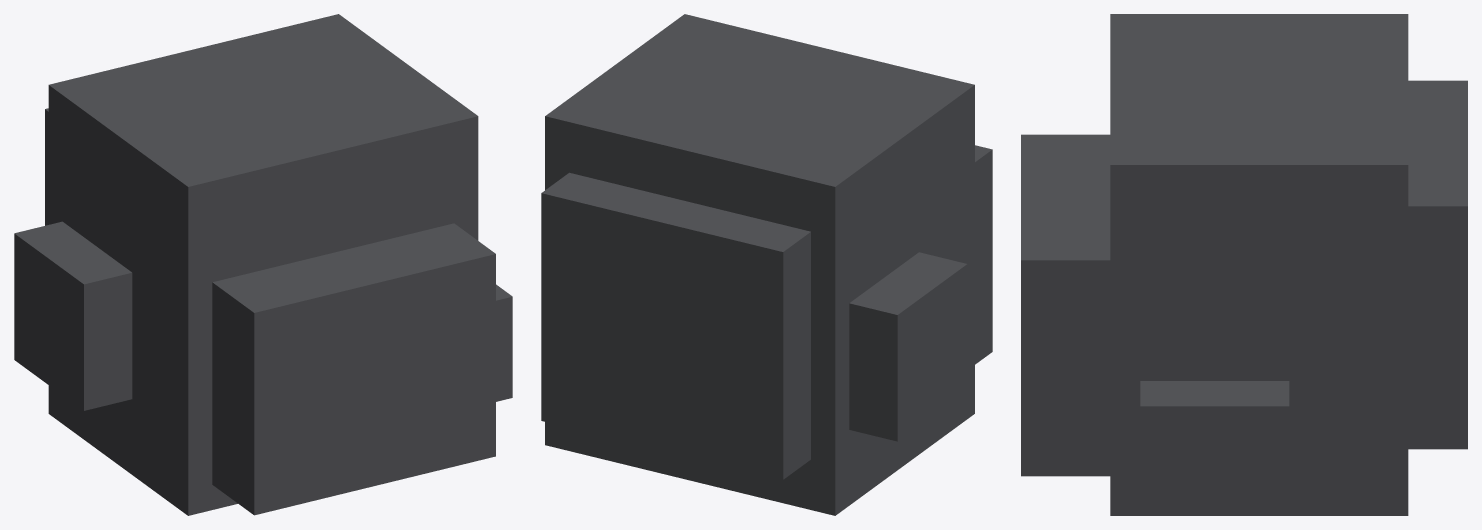
Rendered from rock_1.obj.
3 views of the same model, side by side, from view 1: azimuth 30°, elevation 25°; view 2: azimuth 150°, elevation 25°; view 3: azimuth 270°, elevation 25° (orthographic). The views are drawn at different scales.
Bounding box in the file's own units: 16 × 13 × 15.
Materials: 1 (1 with a texture image).
